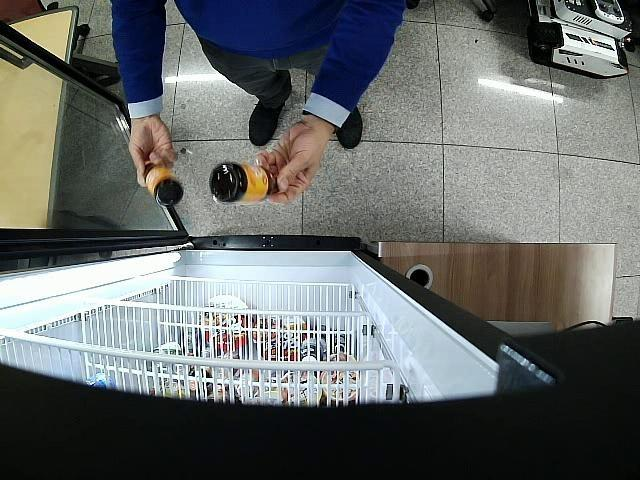17_vita500: (212, 161, 278, 203), (144, 163, 184, 207)
